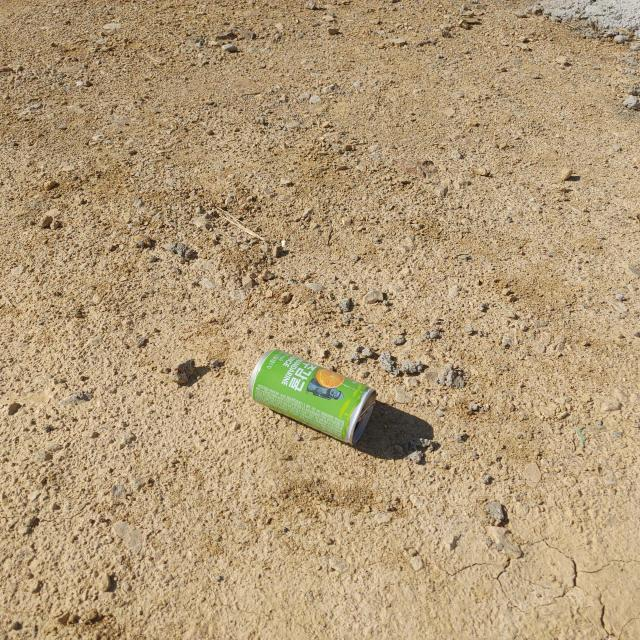can: (250, 350, 377, 445)
